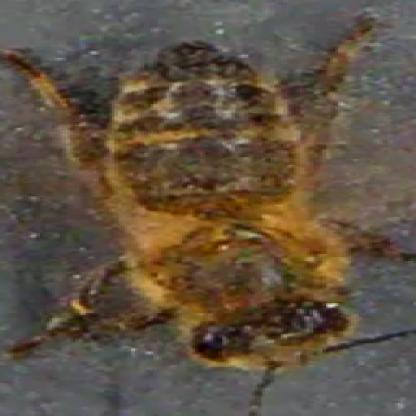bee: (83, 32, 362, 352)
